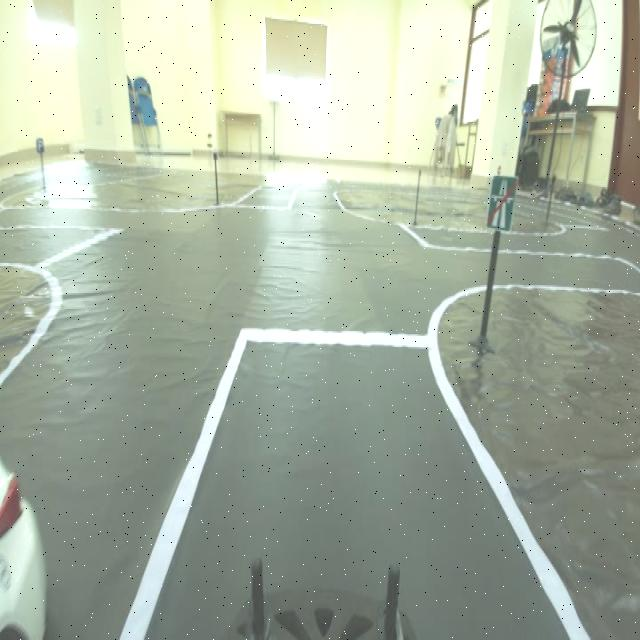highway_exit: (487, 167, 521, 240)
